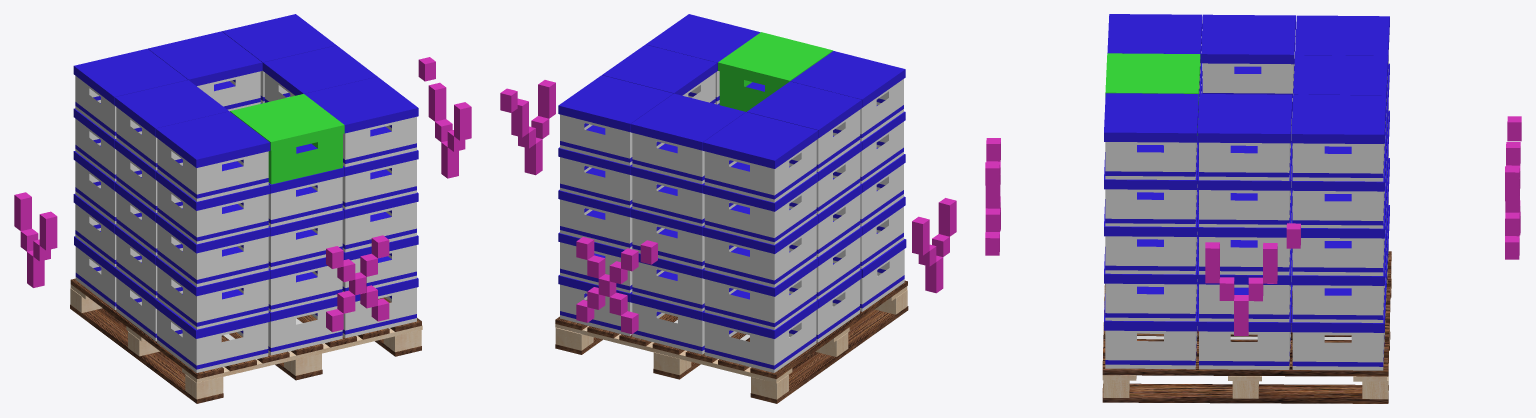
File: caja215.gltf
The picture shows the model from 3 angles, left to right: view 1: azimuth 30°, elevation 25°; view 2: azimuth 150°, elevation 25°; view 3: azimuth 270°, elevation 25°; orthographic projection. The views are drawn at different scales.
Visible parts, largest first — view 1: CajaVerde, Cube.031_1, Cube.026_1, Cube.032_1, Cube.029_1, Cube.030_1, Cube.027_1, Cube.005_0, Cube.031_0, Cube.020_0, Cube.012_0, Cube.039_0 (+53 smaller); view 2: CajaVerde, Cube.029_1, Cube.032_1, Cube.028_1, Cube.030_1, Cube.031_1, Cube.027_1, Cube.007_0, Cube.029_0, Cube.022_0, Cube.014_0, Cube.037_0 (+53 smaller); view 3: Cube.026_1, Cube.027_1, Cube.028_1, Cube.030_1, Cube055, CajaVerde, Cube.029_1, Cube.032_1, Cube.031_1, Cube.003_0, Cube.001_0, Cube.002_0 (+33 smaller).
Boxes of the visible parts, bbox=[...] form: CajaVerde: bbox=[230, 94, 344, 184]; Cube.031_1: bbox=[155, 111, 270, 198]; Cube.026_1: bbox=[304, 76, 418, 163]; Cube.032_1: bbox=[148, 31, 262, 109]; Cube.029_1: bbox=[73, 48, 187, 135]; Cube.030_1: bbox=[114, 80, 228, 167]; Cube.027_1: bbox=[263, 45, 377, 102]; Cube.005_0: bbox=[157, 309, 268, 372]; Cube.031_0: bbox=[157, 138, 268, 201]; Cube.020_0: bbox=[157, 224, 268, 286]; Cube.012_0: bbox=[157, 267, 268, 329]; Cube.039_0: bbox=[157, 181, 268, 244]; CajaVerde: bbox=[718, 32, 833, 111]; Cube.029_1: bbox=[703, 112, 818, 199]; Cube.032_1: bbox=[630, 93, 745, 180]; Cube.028_1: bbox=[558, 75, 673, 162]; Cube.030_1: bbox=[747, 81, 861, 168]; Cube.031_1: bbox=[790, 51, 905, 138]; Cube.027_1: bbox=[602, 44, 717, 103]; Cube.007_0: bbox=[704, 310, 816, 372]; Cube.029_0: bbox=[704, 140, 816, 202]; Cube.022_0: bbox=[704, 225, 816, 287]; Cube.014_0: bbox=[704, 268, 816, 329]; Cube.037_0: bbox=[704, 183, 816, 244]; Cube.026_1: bbox=[1104, 93, 1198, 176]; Cube.027_1: bbox=[1197, 94, 1292, 177]; Cube.028_1: bbox=[1291, 94, 1386, 177]; Cube.030_1: bbox=[1201, 14, 1295, 97]; Cube055: bbox=[1102, 383, 1388, 403]; CajaVerde: bbox=[1105, 53, 1200, 135]; Cube.029_1: bbox=[1295, 15, 1389, 98]; Cube.032_1: bbox=[1293, 55, 1387, 135]; Cube.031_1: bbox=[1107, 14, 1202, 96]; Cube.003_0: bbox=[1292, 332, 1384, 370]; Cube.001_0: bbox=[1105, 330, 1197, 369]; Cube.002_0: bbox=[1199, 331, 1290, 369].
Bounding box in the file's own units: 4.24 × 2.34 × 4.23.
Materials: 82 (2 with a texture image).
